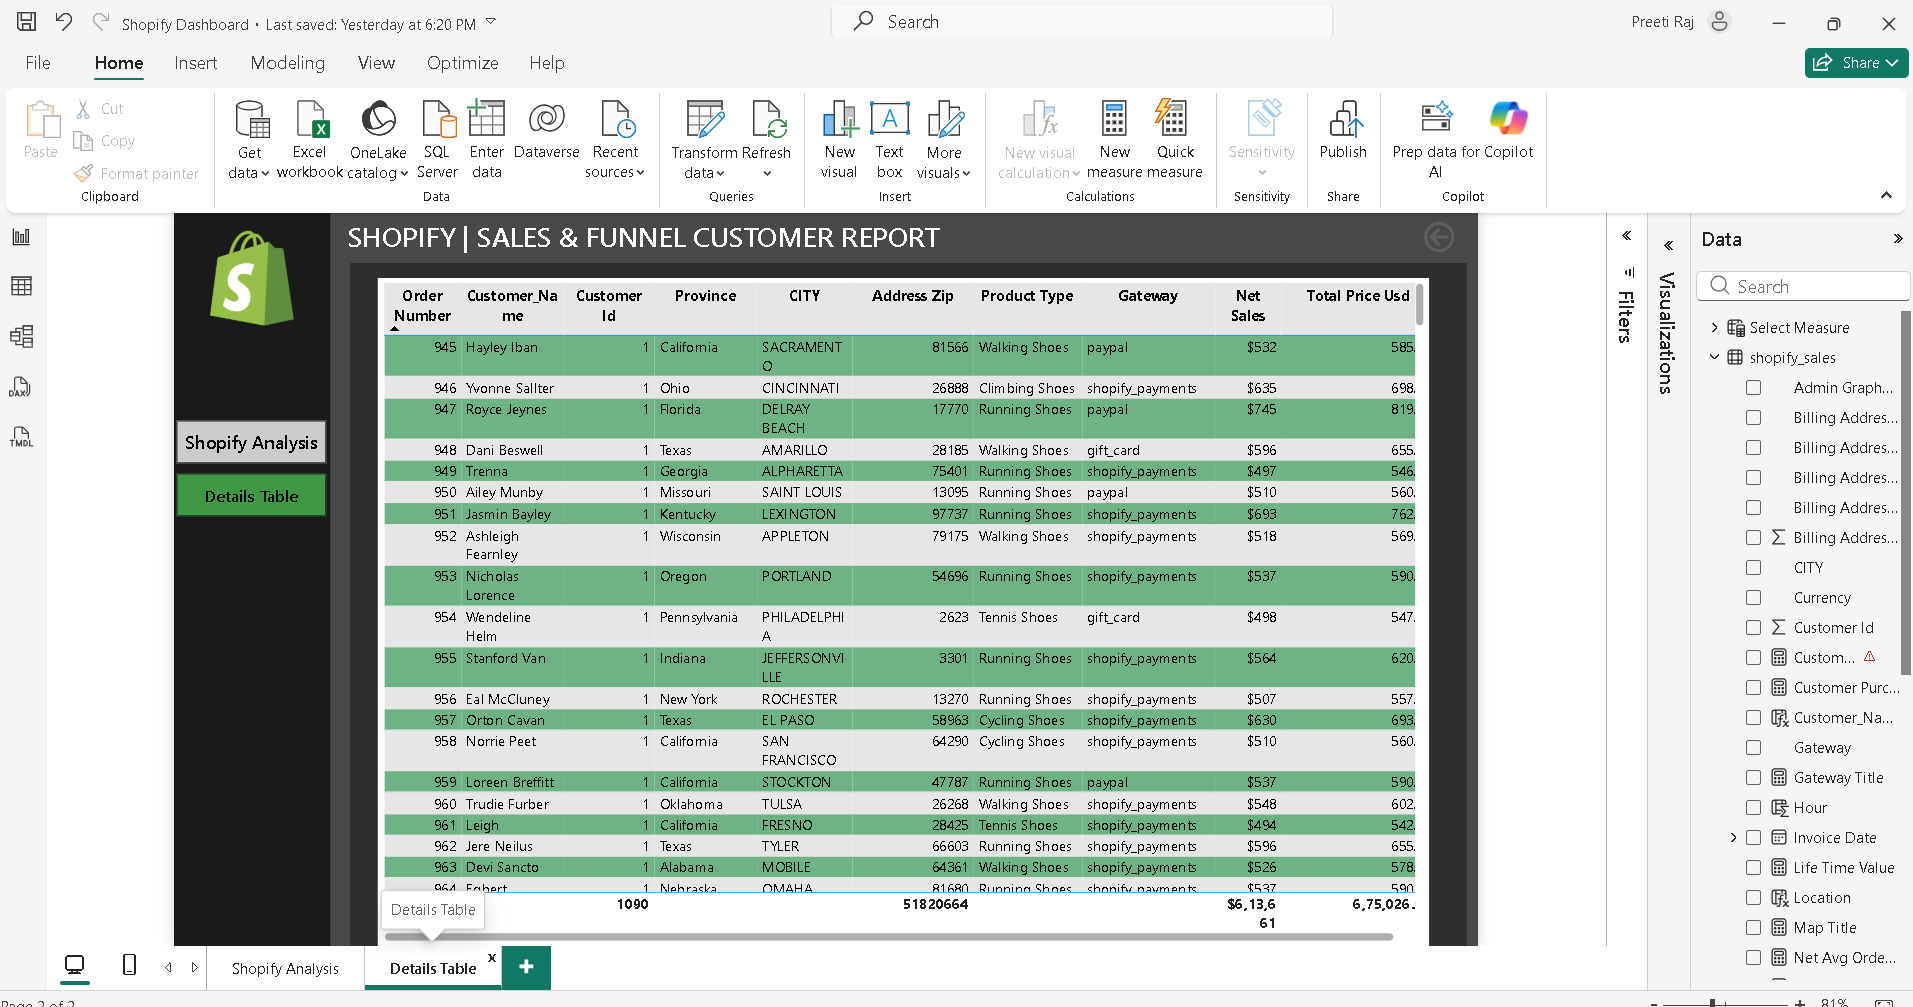

The page's visual inventory and layout, read from the dashboard file:
{"tool":"powerbi","page":{"name":"Details Table","canvas":[1280,720],"ordinal":1},"visuals":[{"type":"shape","box":[0,0,153.4,720.2],"z":0},{"type":"textbox","box":[153.4,0,614.7,49.1],"z":1000},{"type":"shape","box":[173.1,48.7,1096.2,671.8],"z":2000},{"type":"image","box":[25.6,16.7,101.3,93.6],"z":3000},{"type":"tableEx","fields":{"Values":["shopify_sales.Order Number","shopify_sales.Customer_Name","CountNonNull(shopify_sales.Customer Id)","shopify_sales.Billing Address Province","shopify_sales.CITY","Sum(shopify_sales.Billing Address Zip)","shopify_sales.Product Type","shopify_sales.Gateway","shopify_sales.Net Sales","Sum(shopify_sales.Total Price Usd)"]},"box":[200,64.1,1032.1,656.4],"z":4000},{"type":"actionButton","box":[1221.8,3.8,47.4,39.7],"z":5000},{"type":"pageNavigator","box":[2.5,203.7,147.2,95.7],"z":5001}]}

Visuals, with their boxes on the page's 1280x720 design canvas (x1, y1, x2, y2). These are canvas units, not pixel positions in the 1913x1007 screenshot, which may show the page scaled, cropped or inside an application window:
shape: pyautogui.locateOnScreen(0, 0, 153, 720)
textbox: pyautogui.locateOnScreen(153, 0, 768, 49)
shape: pyautogui.locateOnScreen(173, 49, 1269, 720)
image: pyautogui.locateOnScreen(26, 17, 127, 110)
tableEx - shopify_sales.Order Number x shopify_sales.Customer_Name: pyautogui.locateOnScreen(200, 64, 1232, 720)
actionButton: pyautogui.locateOnScreen(1222, 4, 1269, 44)
pageNavigator: pyautogui.locateOnScreen(2, 204, 150, 299)
